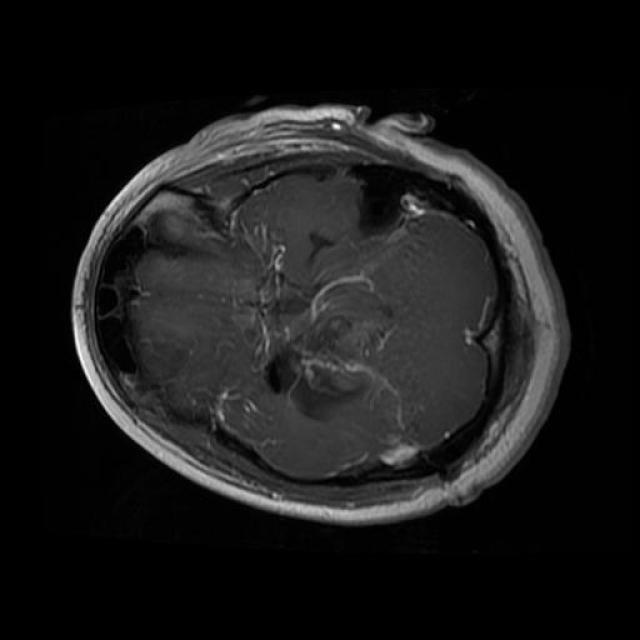Glioma: (265, 309, 395, 417)
